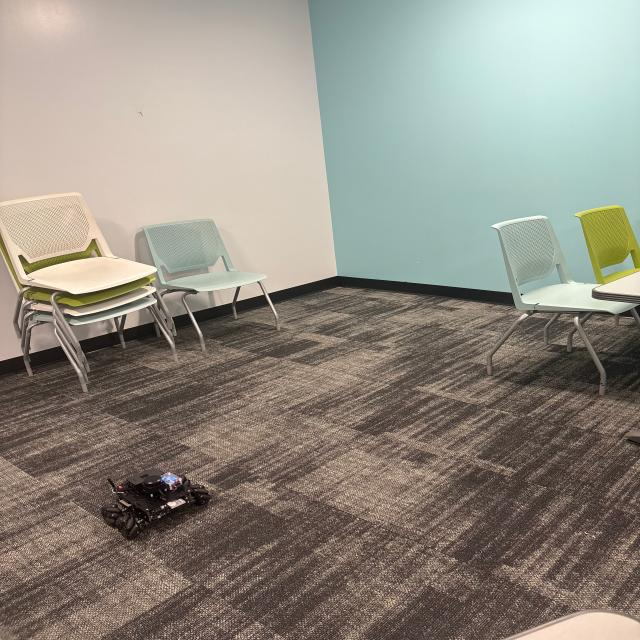ArduinoCar3: (103, 464, 218, 533)
